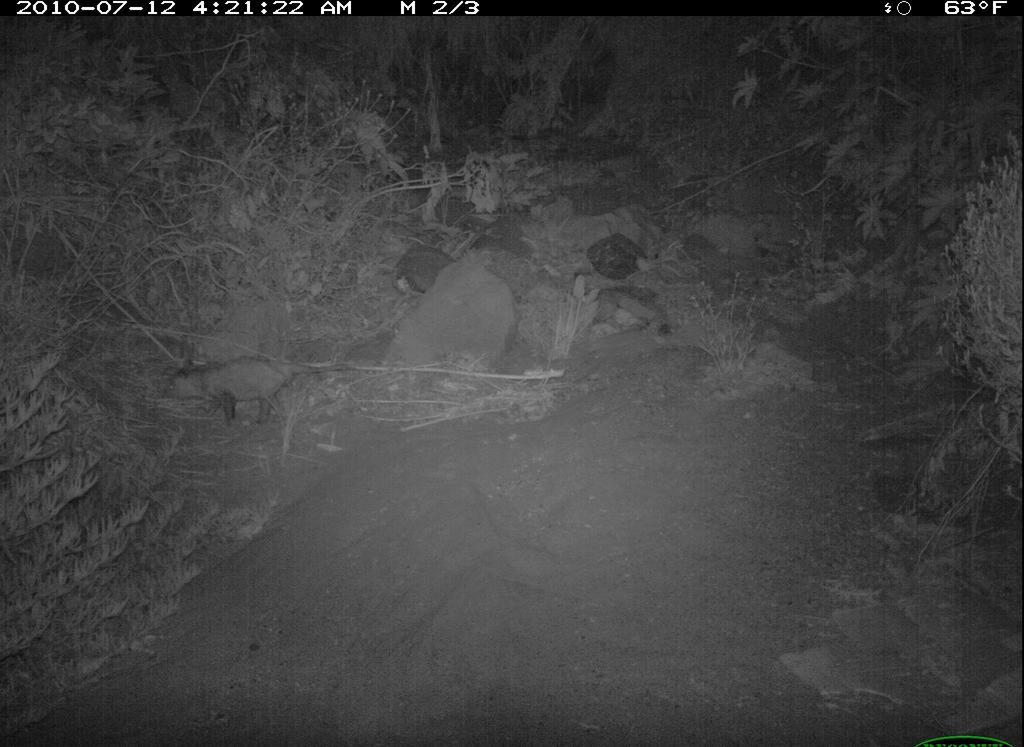opossum: (168, 355, 354, 429)
